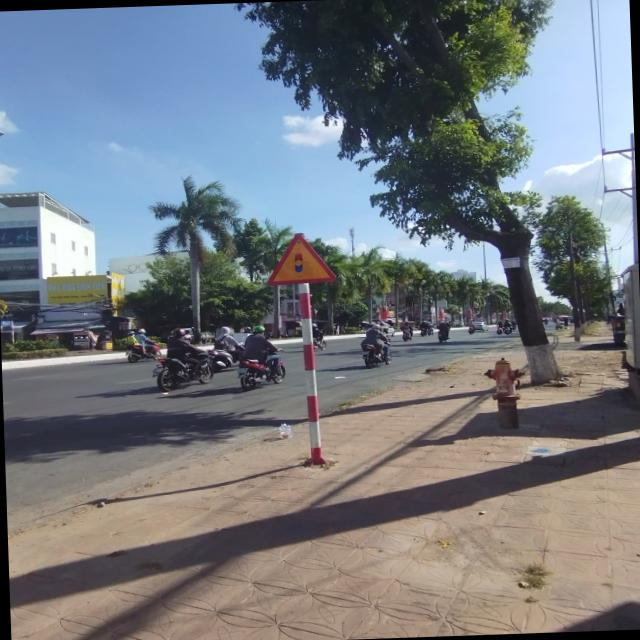Duong_Co_Go_Giam_Toc: (264, 231, 338, 285)
